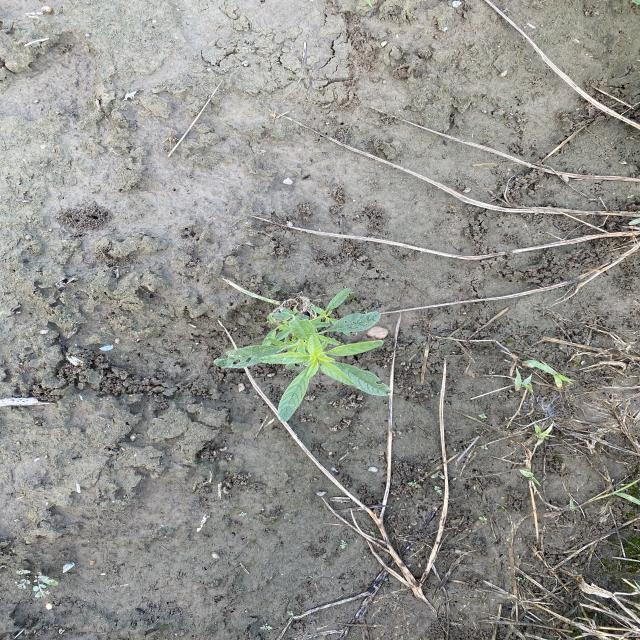Waterhemp: (212, 287, 395, 425)
